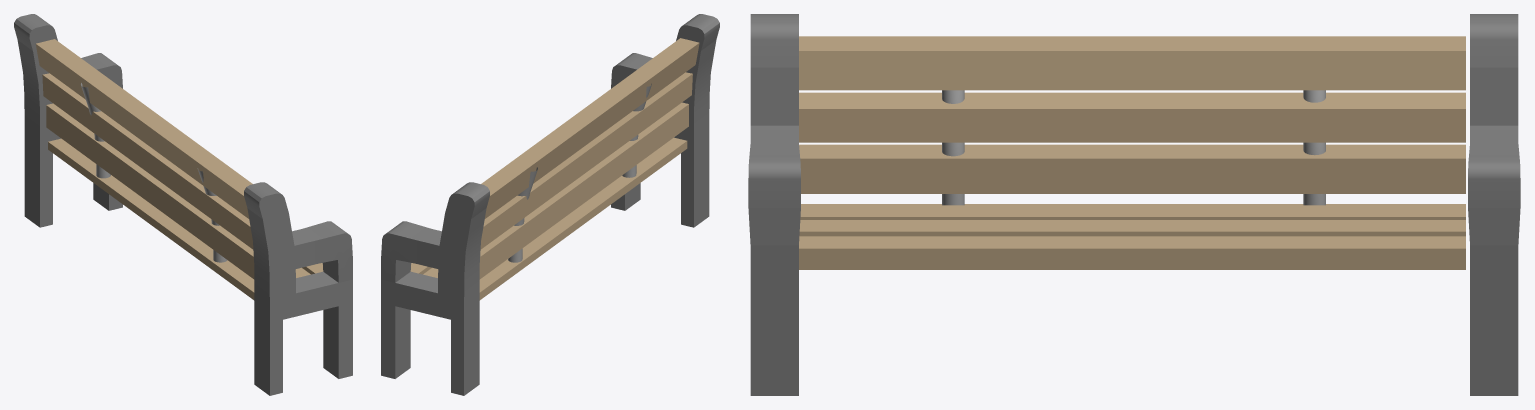
Rendered from Bench.fbx.
3 views of the same model, side by side, from view 1: azimuth 30°, elevation 25°; view 2: azimuth 150°, elevation 25°; view 3: azimuth 270°, elevation 25° (orthographic). The views are drawn at different scales.
Visible parts, largest first — view 1: polySurface117; view 2: polySurface117; view 3: polySurface117.
Part boxes in pixels (x1,y1,x2,y2): polySurface117: (14,14,352,395); polySurface117: (381,14,719,395); polySurface117: (748,14,1520,395).
Bounding box in the file's own units: 1.25 × 2.57 × 5.72.
